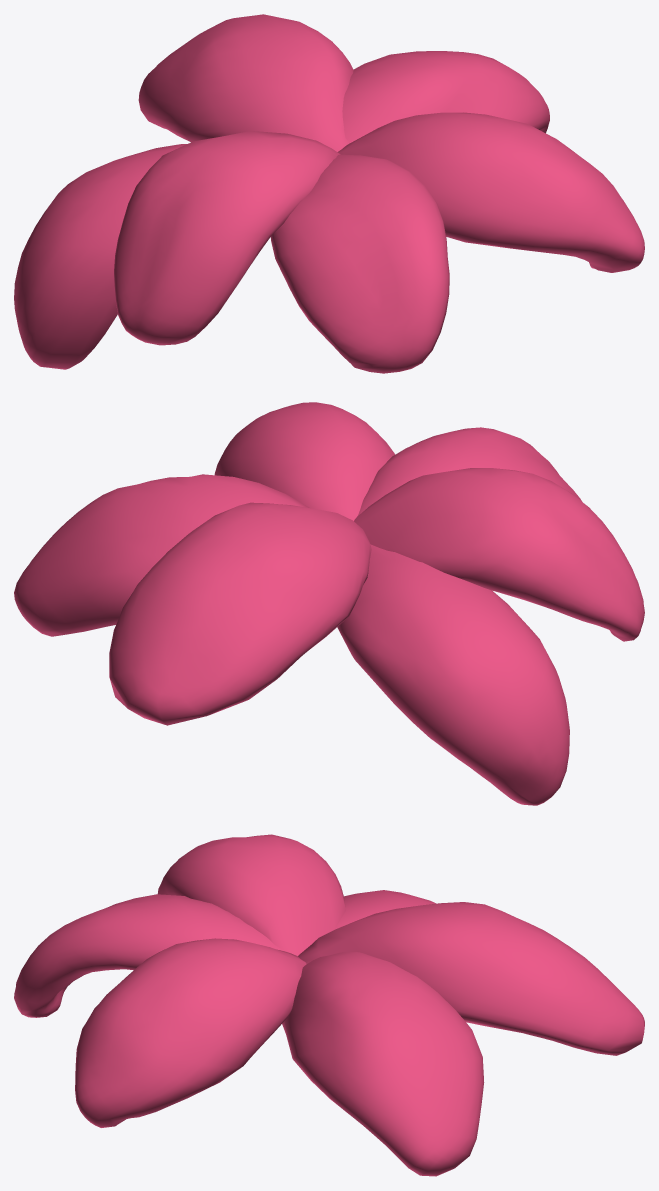
The model's file is Cespuglio rosa.fbx.
The picture shows the model from 3 angles, top to bottom: view 1: azimuth 30°, elevation 25°; view 2: azimuth 150°, elevation 25°; view 3: azimuth 270°, elevation 25°; orthographic projection. The views are drawn at different scales.
Visible parts, largest first — view 1: cespuglio 2; view 2: cespuglio 2; view 3: cespuglio 2.
Part boxes in pixels (left/top/right/bottom): cespuglio 2: left=14, top=14, right=644, bottom=373; cespuglio 2: left=14, top=402, right=644, bottom=805; cespuglio 2: left=14, top=834, right=644, bottom=1176.
Bounding box in the file's own units: 289 × 128 × 308.
